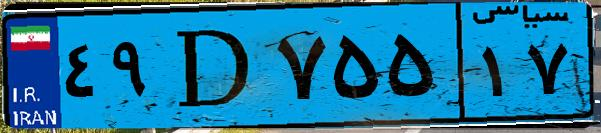1: (475, 38, 525, 113)
4: (57, 26, 110, 100)
5: (385, 28, 445, 110), (330, 28, 385, 110)
7: (270, 28, 330, 110), (525, 38, 570, 115)
9: (110, 28, 158, 98)
D: (158, 12, 270, 120)
